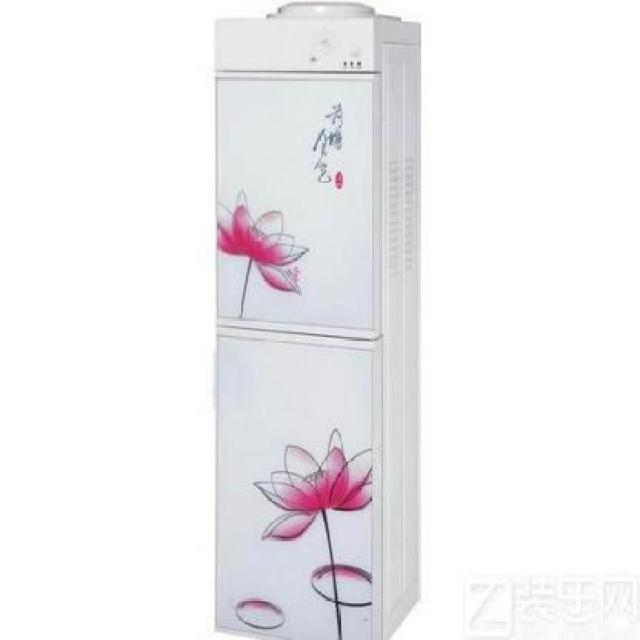cooler: (212, 0, 423, 640)
